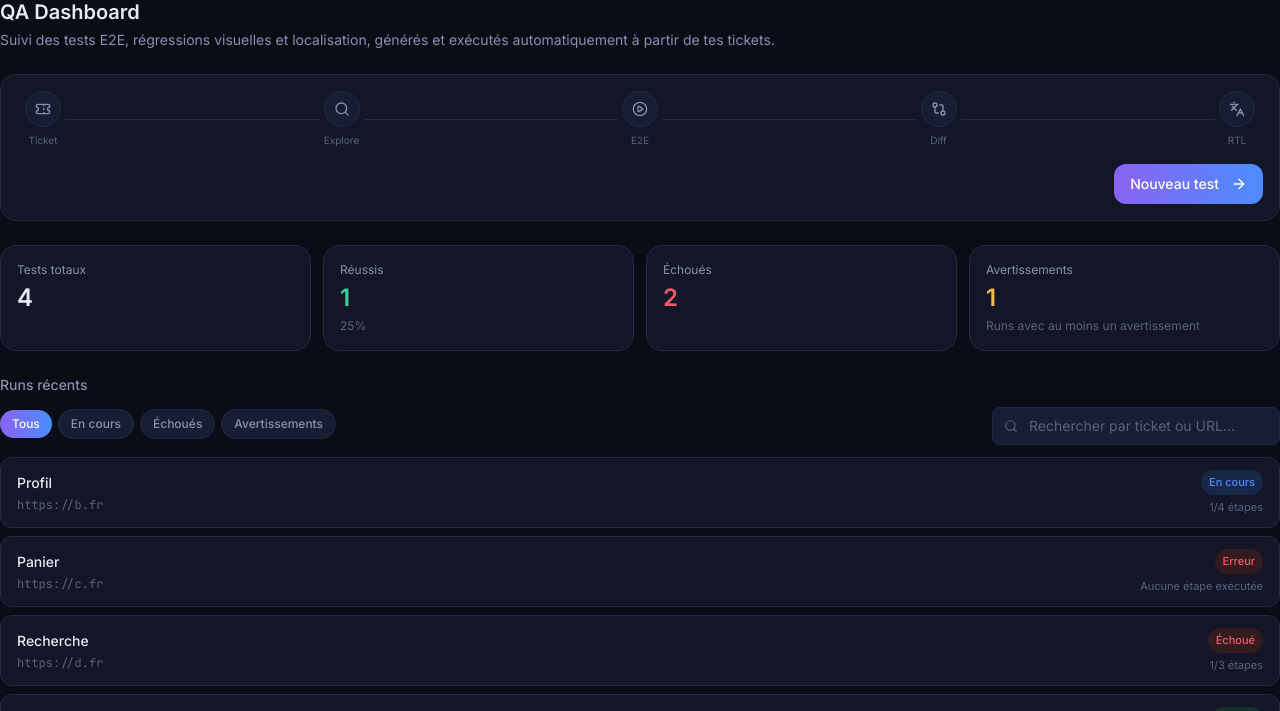
Scenario: Dashboard › filtres : en cours, échoués (échec + erreur), avertissements, tous
The image size is (1280, 711).
Click the button "En cours": (96, 424) [58, 409, 134, 439]
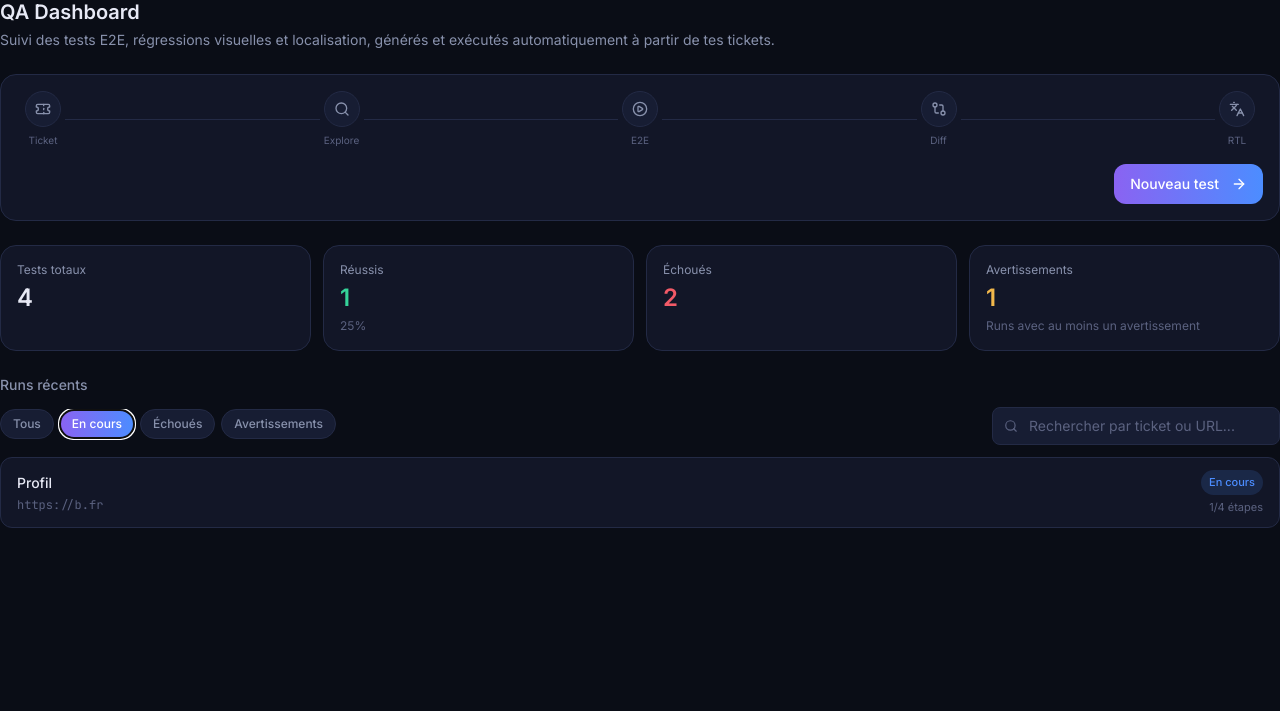
Expected: the text "Profil" is shown, [17, 474, 52, 490]
Click the button "Échoués": (178, 424) [140, 409, 215, 439]
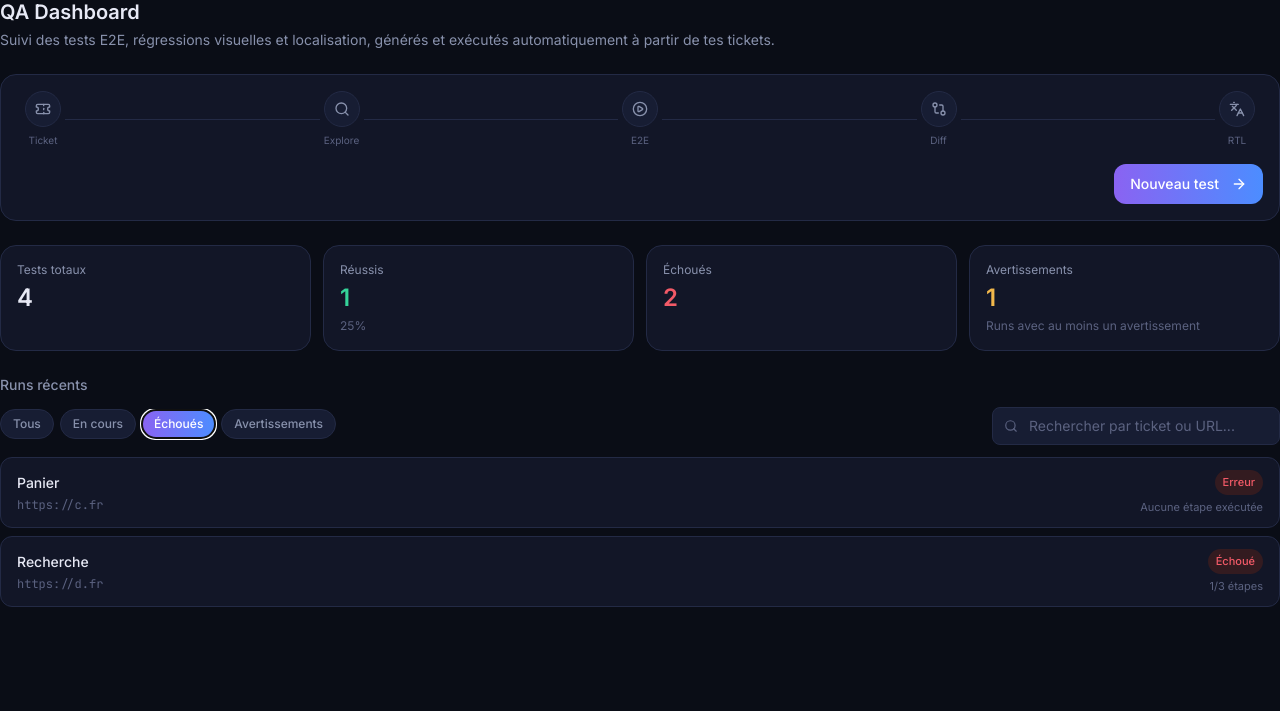
Expected: the text "Connexion" is not shown
Result: the text "Panier" is shown at [17, 474, 60, 490]
Result: the text "Recherche" is shown at [17, 552, 89, 570]
Click the button "Avertissements": (279, 424) [221, 409, 336, 439]
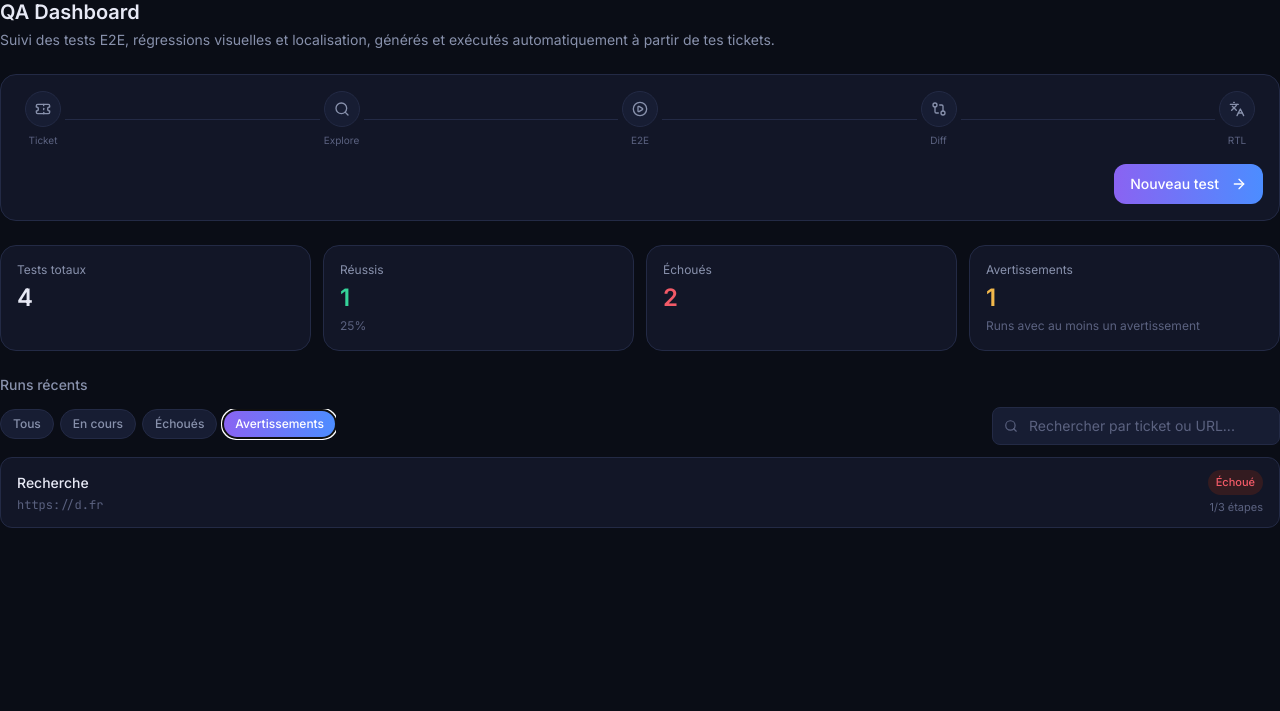
Result: the text "Recherche" is shown at [17, 474, 89, 490]
Result: the text "Panier" is gone
Click the button "Tous": (27, 424) [0, 409, 54, 439]
(page scrolled)
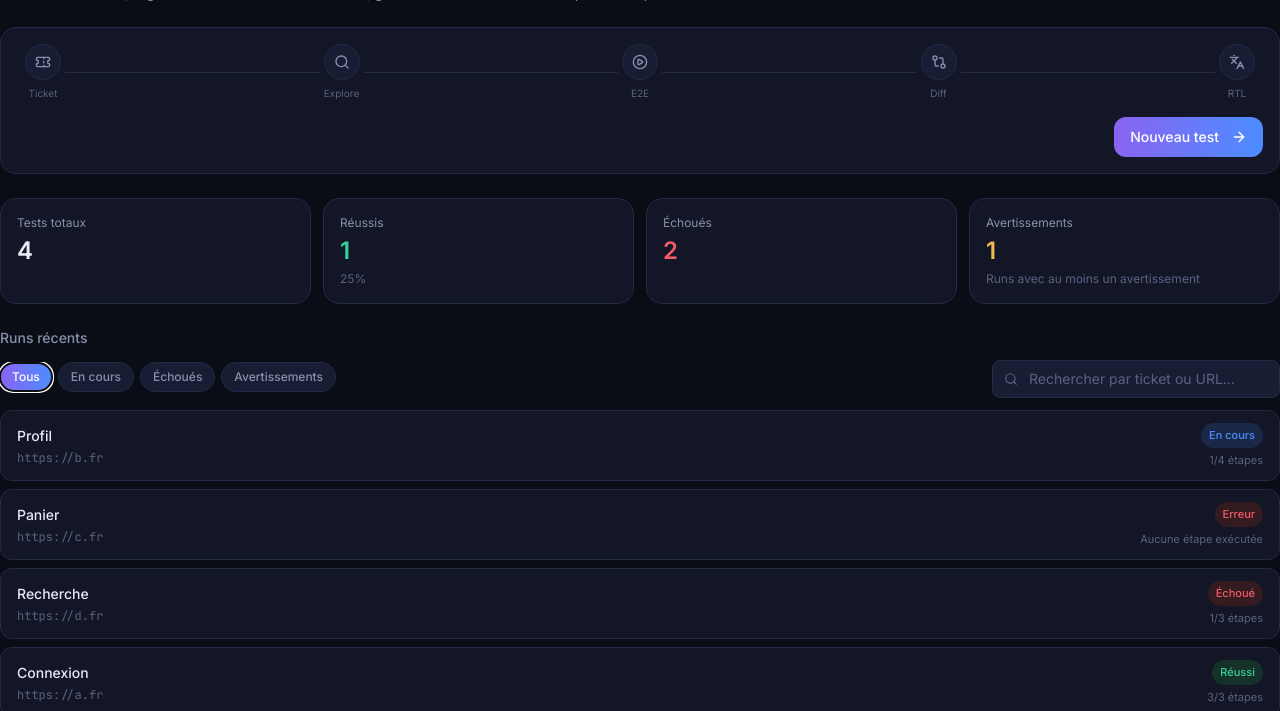
Result: the text "Connexion" is shown at [17, 664, 89, 680]
